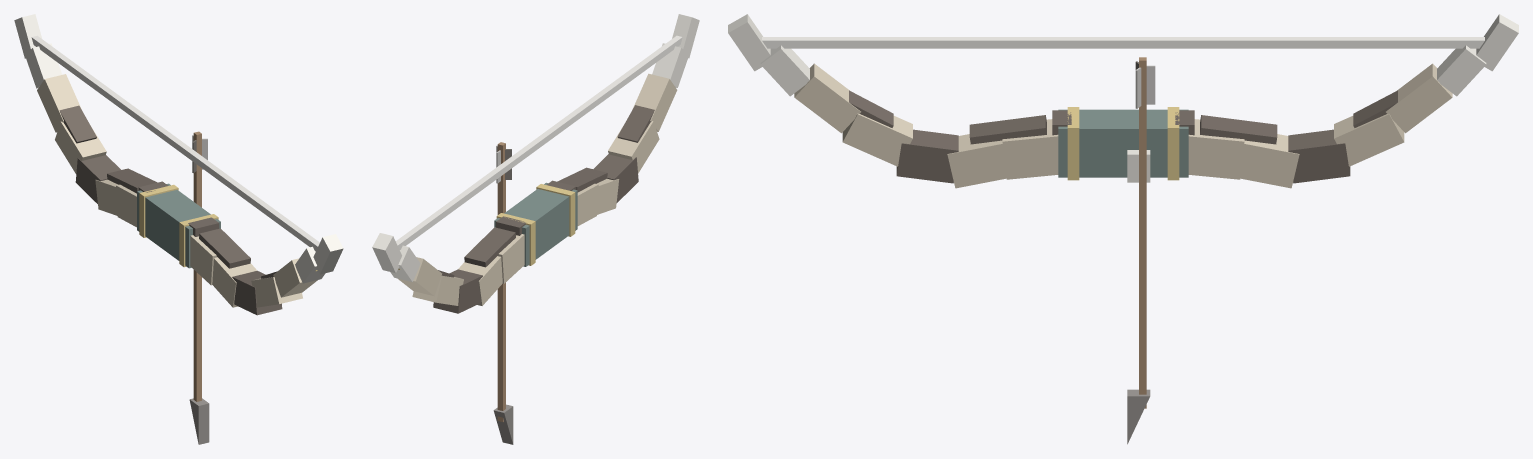
The model's file is art_recurve_composite.fbx.
3 renders of one model, left to right at view 1: azimuth 30°, elevation 25°; view 2: azimuth 150°, elevation 25°; view 3: azimuth 270°, elevation 25°, orthographic. The views are drawn at different scales.
Parts seen in each view (by area): view 1: BowString, Handle, ArrowShaft, LimbU_Recurve2, LimbU_Recurve1, LimbU_Knee, BellyPlate_L1, LimbL_Knee, LimbL_Reflex2, SyyahU_Base, LimbL_Reflex1, LimbL_Recurve2 (+12 smaller); view 2: BowString, Handle, ArrowShaft, LimbL_Recurve2, LimbL_Recurve1, LimbL_Knee, BellyPlate_U1, LimbU_Knee, LimbU_Reflex2, SyyahL_Base, LimbU_Reflex1, LimbU_Recurve2 (+12 smaller); view 3: BowString, Handle, ArrowShaft, LimbL_Knee, LimbU_Knee, LimbL_Reflex1, LimbU_Reflex1, LimbL_Reflex2, LimbU_Reflex2, LimbL_Recurve2, LimbU_Recurve2, LimbL_Recurve1 (+9 smaller).
Part boxes in pixels (bbox=[...]): BowString: bbox=[31, 35, 319, 251]; Handle: bbox=[137, 183, 220, 268]; ArrowShaft: bbox=[193, 131, 201, 401]; LimbU_Recurve2: bbox=[37, 74, 81, 132]; LimbU_Recurve1: bbox=[55, 121, 106, 173]; LimbU_Knee: bbox=[75, 155, 120, 203]; BellyPlate_L1: bbox=[199, 228, 250, 268]; LimbL_Knee: bbox=[232, 270, 282, 315]; LimbL_Reflex2: bbox=[212, 257, 256, 307]; SyyahU_Base: bbox=[24, 43, 62, 88]; LimbL_Reflex1: bbox=[190, 235, 241, 285]; LimbL_Recurve2: bbox=[273, 258, 317, 297]; BowString: bbox=[396, 35, 682, 249]; Handle: bbox=[494, 182, 577, 266]; ArrowShaft: bbox=[497, 142, 505, 421]; LimbL_Recurve2: bbox=[632, 73, 677, 131]; LimbL_Recurve1: bbox=[608, 121, 659, 173]; LimbL_Knee: bbox=[593, 154, 638, 202]; BellyPlate_U1: bbox=[464, 227, 515, 267]; LimbU_Knee: bbox=[433, 269, 482, 313]; LimbU_Reflex2: bbox=[458, 256, 502, 305]; SyyahL_Base: bbox=[652, 43, 689, 87]; LimbU_Reflex1: bbox=[473, 234, 524, 283]; LimbU_Recurve2: bbox=[398, 257, 442, 296]; BowString: bbox=[762, 37, 1484, 48]; Handle: bbox=[1058, 109, 1188, 177]; ArrowShaft: bbox=[1139, 57, 1146, 408]; LimbL_Knee: bbox=[896, 129, 958, 183]; LimbU_Knee: bbox=[1288, 129, 1350, 183]; LimbL_Reflex1: bbox=[1002, 119, 1058, 179]; LimbU_Reflex1: bbox=[1188, 119, 1244, 179]; LimbL_Reflex2: bbox=[947, 134, 1006, 188]; LimbU_Reflex2: bbox=[1240, 134, 1299, 188]; LimbL_Recurve2: bbox=[794, 63, 860, 133]; LimbU_Recurve2: bbox=[1386, 63, 1452, 133]; LimbL_Recurve1: bbox=[842, 113, 912, 166].
Size of the model in its own units: 0.3885 by 2.34 by 4.12.
